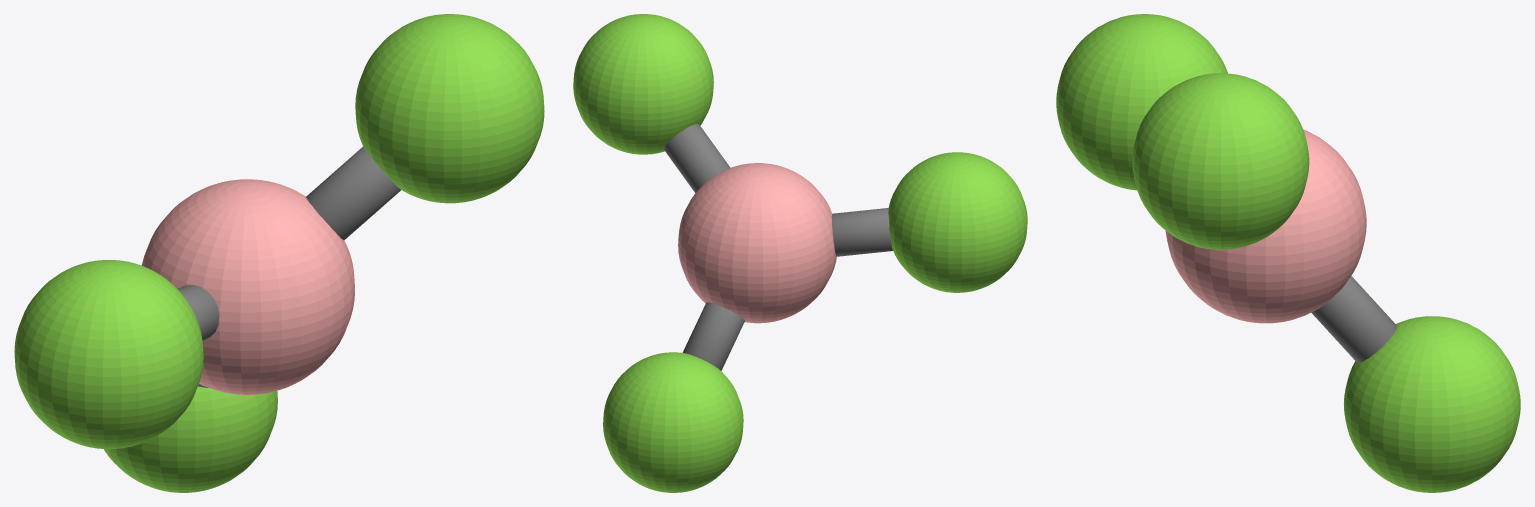
File: TRIFLUORURO DE BORO.obj
The picture shows the model from 3 angles, left to right: view 1: azimuth 30°, elevation 25°; view 2: azimuth 150°, elevation 25°; view 3: azimuth 270°, elevation 25°; orthographic projection. The views are drawn at different scales.
Visible parts, largest first — view 1: Fluorine_ball_Sphere.001, Boron_ball_Sphere, Stick_Cylinder.002_Cylinder.002, Stick_Cylinder_Cylinder; view 2: Fluorine_ball_Sphere.001, Boron_ball_Sphere, Stick_Cylinder_Cylinder, Stick_Cylinder.001_Cylinder.001, Stick_Cylinder.002_Cylinder.002; view 3: Fluorine_ball_Sphere.001, Boron_ball_Sphere, Stick_Cylinder.001_Cylinder.001.
Boxes of the visible parts, x1,y1,x2,y2 form: Fluorine_ball_Sphere.001: (14, 14, 544, 492); Boron_ball_Sphere: (141, 179, 354, 394); Stick_Cylinder.002_Cylinder.002: (306, 146, 400, 240); Stick_Cylinder_Cylinder: (178, 284, 219, 340); Fluorine_ball_Sphere.001: (573, 14, 1027, 492); Boron_ball_Sphere: (678, 163, 836, 323); Stick_Cylinder_Cylinder: (831, 208, 892, 256); Stick_Cylinder.001_Cylinder.001: (682, 302, 744, 370); Stick_Cylinder.002_Cylinder.002: (664, 124, 730, 192); Fluorine_ball_Sphere.001: (1056, 14, 1520, 492); Boron_ball_Sphere: (1165, 129, 1366, 323); Stick_Cylinder.001_Cylinder.001: (1311, 276, 1397, 362).
Size of the model in its own units: 4.31 by 3.82 by 3.4.
